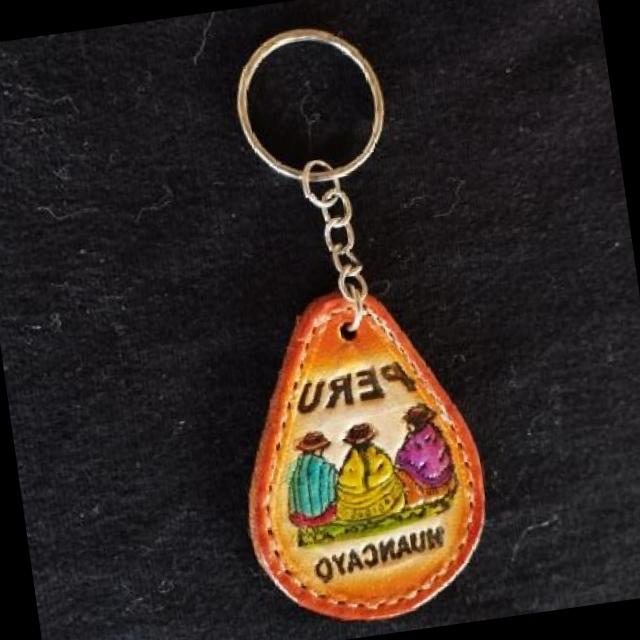Llavero: (216, 272, 504, 637)
